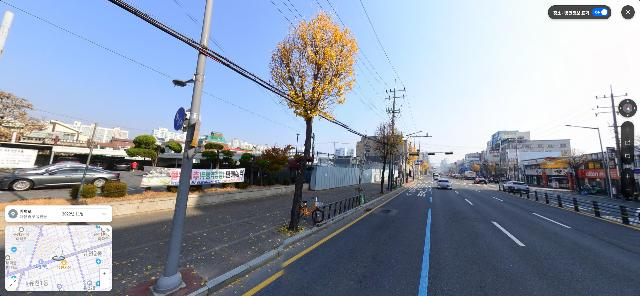ginkgo: (268, 12, 359, 231), (372, 121, 403, 194)
other: (1, 92, 39, 141), (257, 144, 294, 186), (125, 135, 160, 173), (356, 132, 372, 203), (564, 150, 586, 194), (237, 152, 259, 183), (201, 142, 226, 169), (160, 140, 183, 169), (220, 149, 236, 169)
